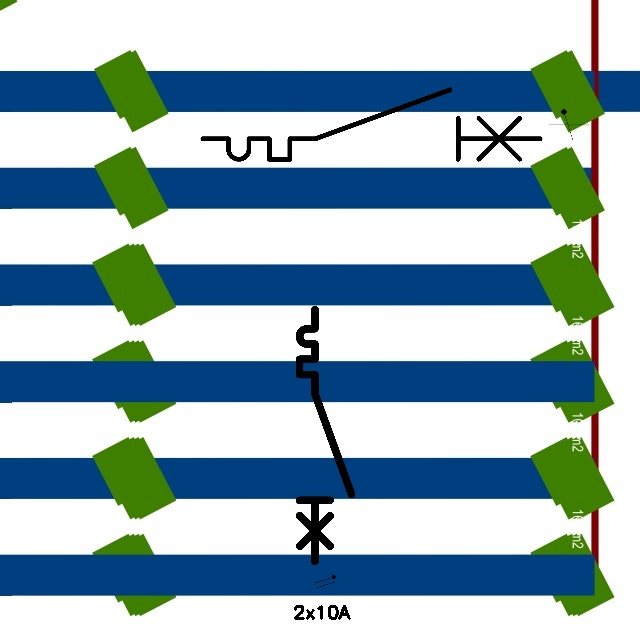interruptor_termomagnetico: (194, 81, 549, 168), (293, 303, 358, 568)
